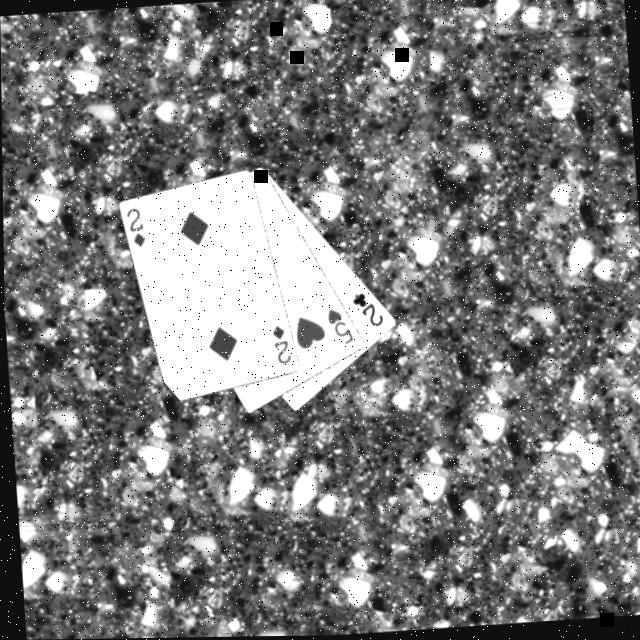2C: (349, 289, 386, 331)
2D: (268, 323, 294, 368), (124, 204, 150, 249)
5H: (324, 304, 357, 348)
